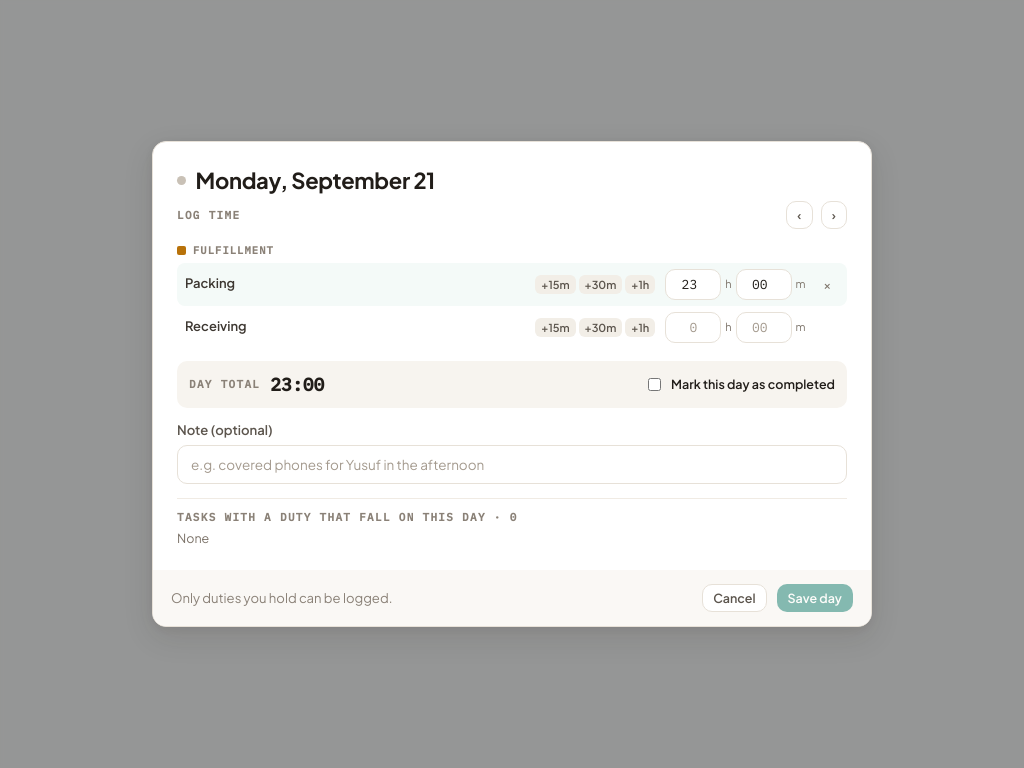
Test case: DayEditorModal › won’t let a day go over 24 hours
Expected: the text "23:00" is shown, [270, 371, 324, 398]
Click the button "+1h" in the row of "Receiving": point(640, 327) [625, 318, 655, 337]
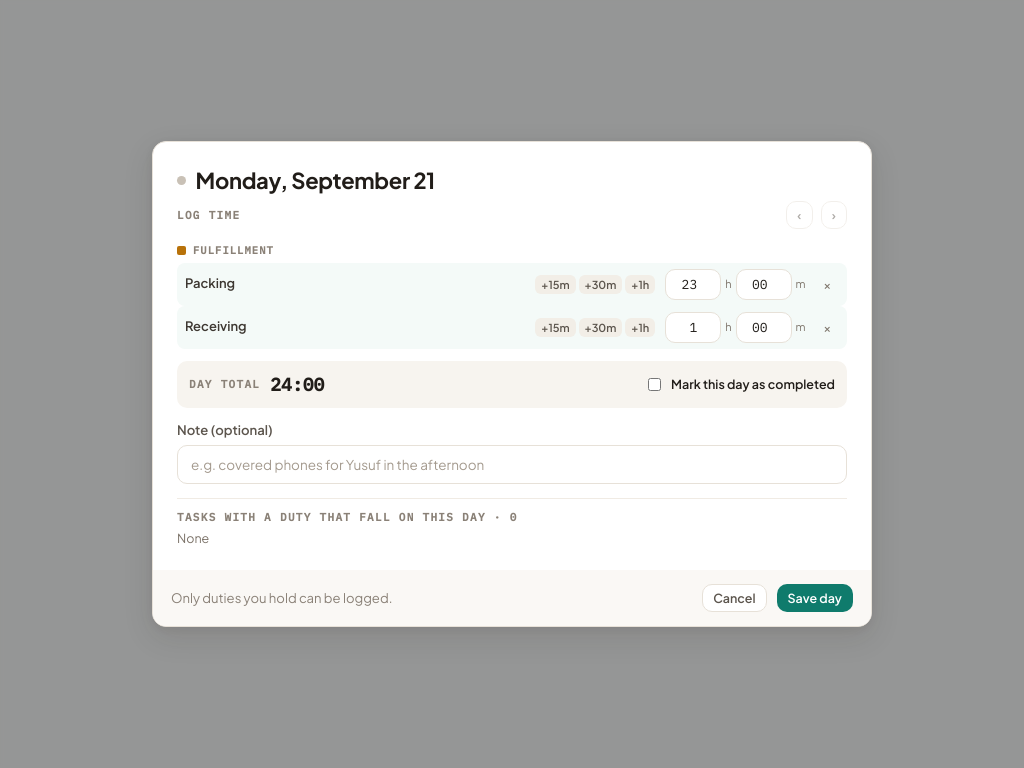
Click the button "+1h" in the row of "Receiving": point(640, 327) [625, 318, 655, 337]
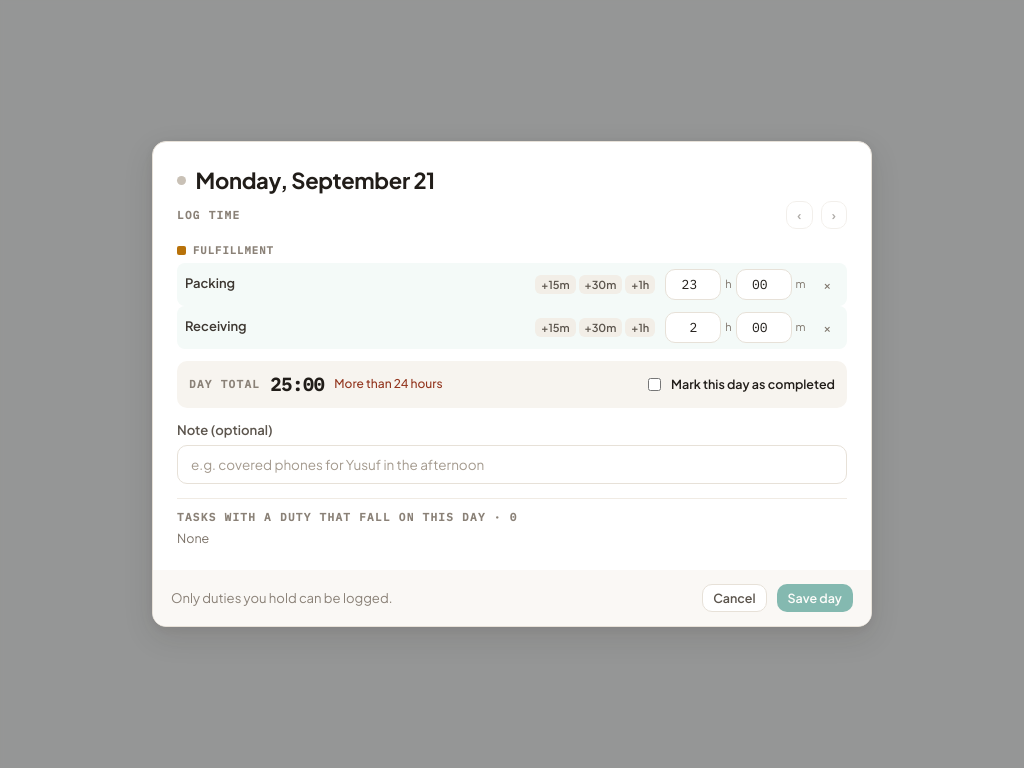
Expected: the text "More than 24 hours" is shown, [334, 375, 443, 393]
Expected: the button "Save day" is disabled, [777, 584, 853, 612]
